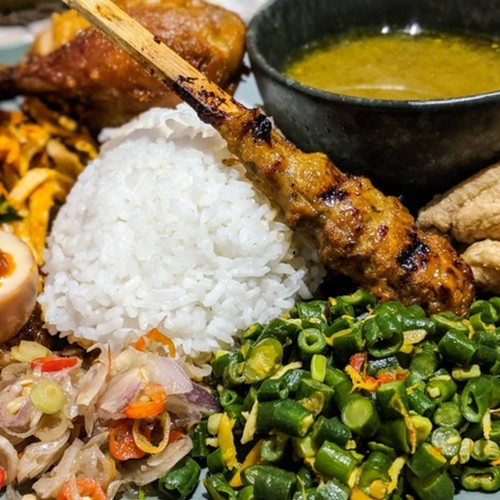nasi campur bali: (3, 101, 500, 490)
